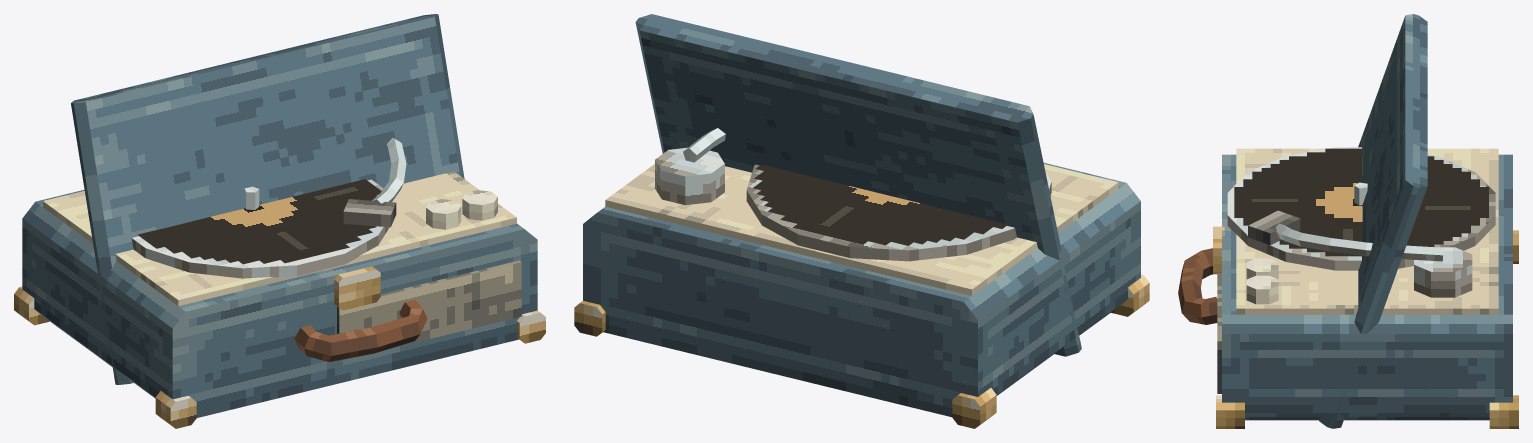
The model's file is record_player.glb.
The picture shows the model from 3 angles, left to right: view 1: azimuth 30°, elevation 25°; view 2: azimuth 150°, elevation 25°; view 3: azimuth 270°, elevation 25°; orthographic projection. The views are drawn at different scales.
Parts seen in each view (by area): view 1: static, record; view 2: static, record; view 3: static, record.
Part boxes in pixels (x1,y1,x2,y2): static: (14,14,545,428); record: (137,179,381,264); static: (574,14,1149,428); record: (753,164,1007,245); static: (1178,14,1518,428); record: (1234,148,1488,256).
Size of the model in its own units: 0.9 by 0.5861 by 0.7314.
Materials: 2 (2 with a texture image).
